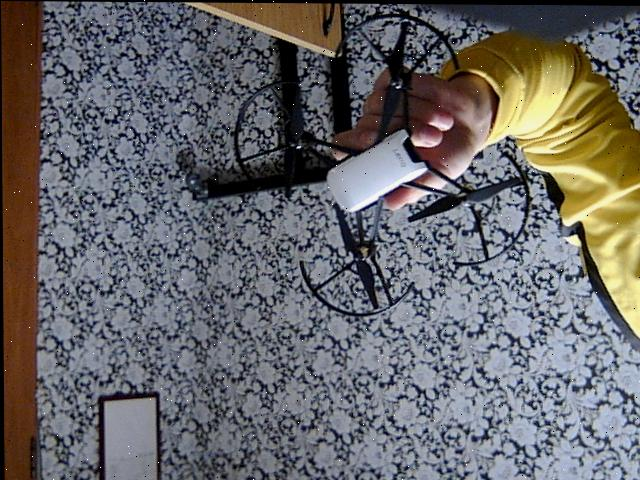drone: (228, 10, 538, 325)
